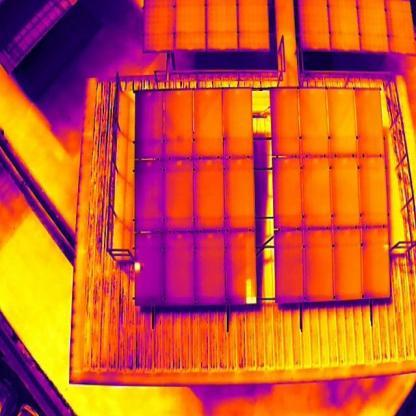anomaly: (244, 278, 258, 305), (133, 262, 142, 272)
